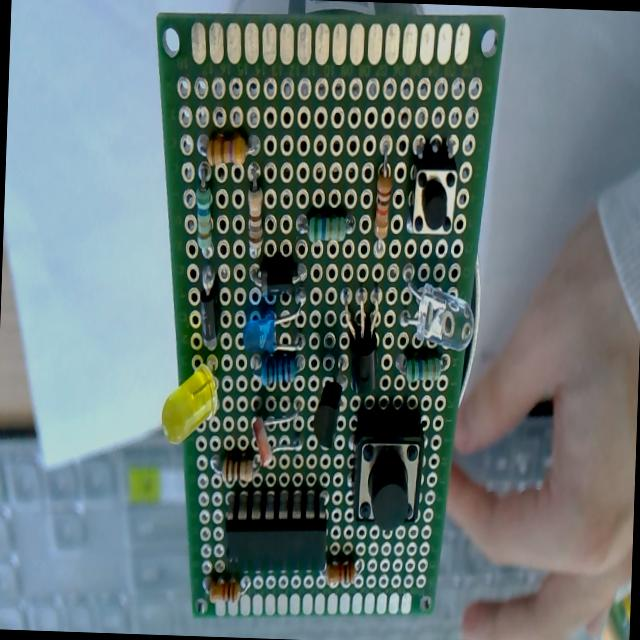IC: (210, 486, 330, 573)
cds: (250, 402, 308, 465)
diode: (190, 262, 228, 351), (242, 266, 316, 294)
led: (396, 255, 479, 354), (152, 348, 224, 448), (240, 304, 307, 360)
resistor: (364, 138, 396, 268), (186, 161, 218, 255), (240, 160, 268, 267), (290, 204, 357, 247), (191, 126, 261, 166), (199, 442, 261, 484), (244, 352, 308, 392), (387, 346, 452, 380), (322, 553, 376, 593), (197, 572, 252, 603)
switch: (346, 415, 430, 530), (404, 141, 466, 244)
transistor: (336, 280, 388, 402), (306, 354, 348, 454)
